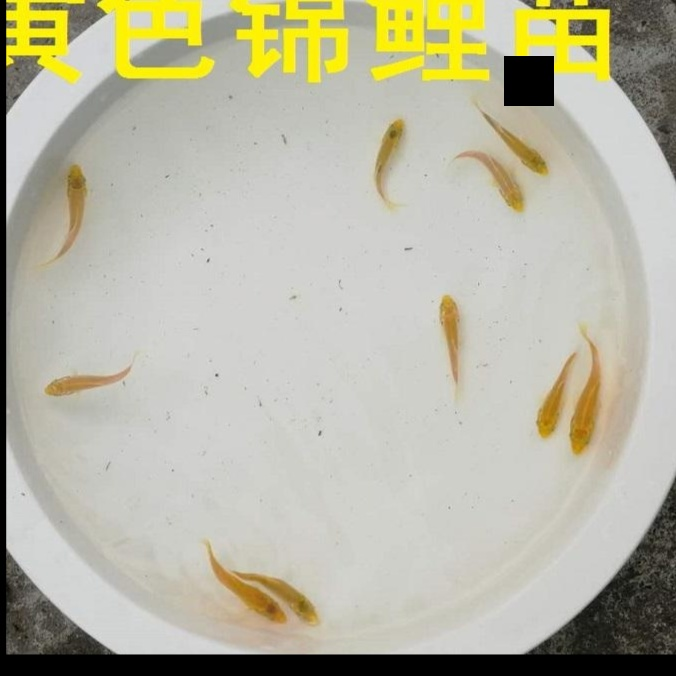fry: (562, 328, 614, 462), (485, 110, 569, 184), (45, 160, 100, 267), (414, 281, 475, 375), (356, 112, 416, 205), (204, 567, 287, 633), (462, 144, 531, 221), (272, 573, 345, 638), (522, 348, 566, 450), (38, 362, 132, 401)
